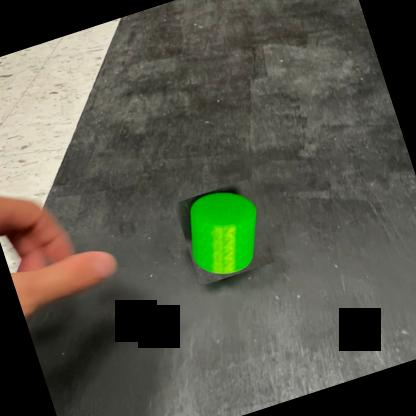green cylinder: (174, 179, 275, 286)
